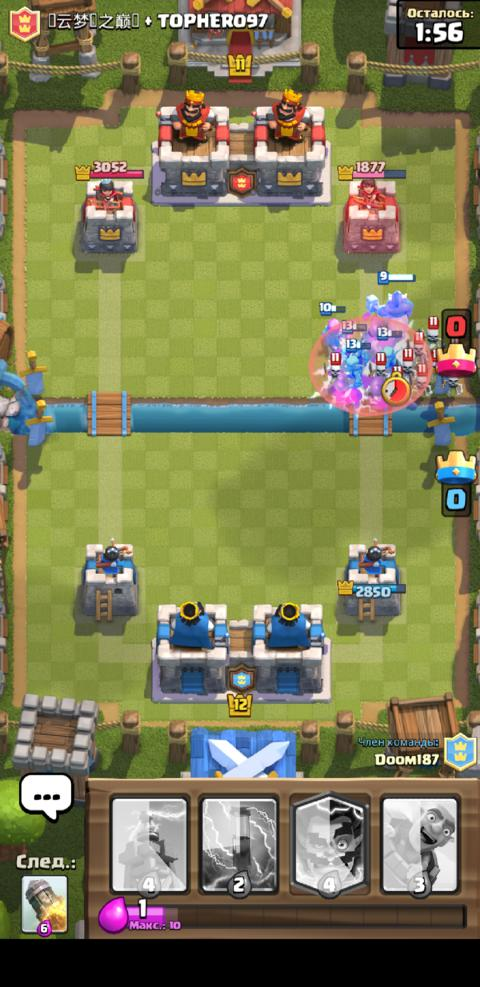ally_archer: (316, 300, 345, 346)
ally_goblin: (341, 338, 370, 387), (373, 325, 402, 364)
ally_hog_rider: (364, 270, 416, 325)
enemy_skeleton: (411, 363, 434, 399), (405, 330, 427, 362), (399, 346, 418, 382), (367, 350, 389, 377), (322, 351, 341, 381), (424, 315, 441, 346), (440, 376, 463, 396)
